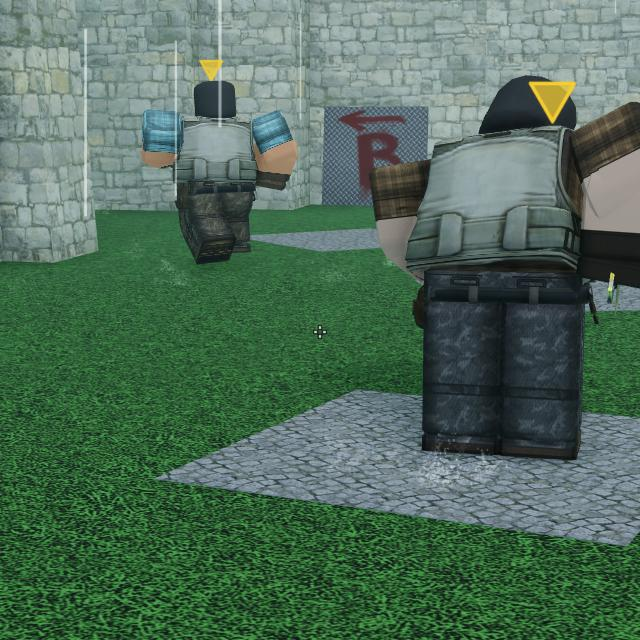Head: (479, 77, 576, 132), (195, 80, 237, 118)
Player: (369, 77, 640, 458), (141, 81, 299, 261)
